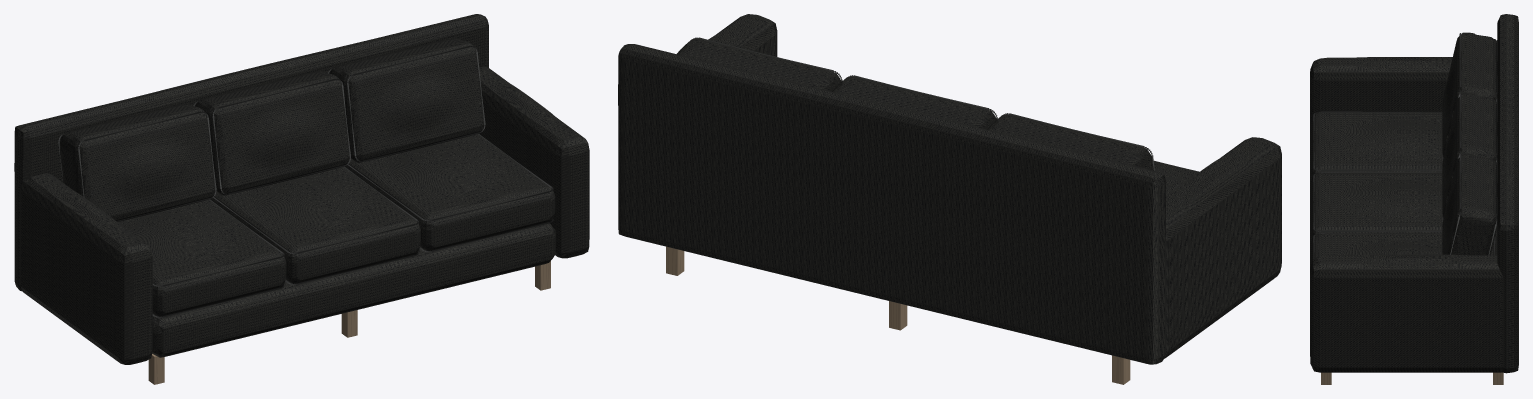
Rendered from sofa.glb.
3 views of the same model, side by side, from view 1: azimuth 30°, elevation 25°; view 2: azimuth 150°, elevation 25°; view 3: azimuth 270°, elevation 25° (orthographic). The views are drawn at different scales.
Parts seen in each view (by area): view 1: arm-pad-l:fabric:eyJ3ZWF2ZSI6InR3aWxsLTIvMSIsIndhcnAiOiJncmV, deck:fabric:eyJ3ZWF2ZSI6InR3aWxsLTIvMSIsIndhcnAiOiJncmV5Iiwi, seat-2:fabric:eyJ3ZWF2ZSI6InR3aWxsLTIvMSIsIndhcnAiOiJncmV5Ii, seat-3:fabric:eyJ3ZWF2ZSI6InR3aWxsLTIvMSIsIndhcnAiOiJncmV5Ii, back-1:fabric:eyJ3ZWF2ZSI6InR3aWxsLTIvMSIsIndhcnAiOiJncmV5Ii, back-3:fabric:eyJ3ZWF2ZSI6InR3aWxsLTIvMSIsIndhcnAiOiJncmV5Ii, back-2:fabric:eyJ3ZWF2ZSI6InR3aWxsLTIvMSIsIndhcnAiOiJncmV5Ii, back-pad:fabric:eyJ3ZWF2ZSI6InR3aWxsLTIvMSIsIndhcnAiOiJncmV5, seat-1:fabric:eyJ3ZWF2ZSI6InR3aWxsLTIvMSIsIndhcnAiOiJncmV5Ii, arm-pad-r:fabric:eyJ3ZWF2ZSI6InR3aWxsLTIvMSIsIndhcnAiOiJncmV, seat-2:piping:pbr, back-3:piping:pbr (+4 smaller); view 2: back-pad:fabric:eyJ3ZWF2ZSI6InR3aWxsLTIvMSIsIndhcnAiOiJncmV5, arm-pad-l:fabric:eyJ3ZWF2ZSI6InR3aWxsLTIvMSIsIndhcnAiOiJncmV, back-1:fabric:eyJ3ZWF2ZSI6InR3aWxsLTIvMSIsIndhcnAiOiJncmV5Ii, back-3:fabric:eyJ3ZWF2ZSI6InR3aWxsLTIvMSIsIndhcnAiOiJncmV5Ii, back-2:fabric:eyJ3ZWF2ZSI6InR3aWxsLTIvMSIsIndhcnAiOiJncmV5Ii, arm-pad-r:fabric:eyJ3ZWF2ZSI6InR3aWxsLTIvMSIsIndhcnAiOiJncmV, seat-1:fabric:eyJ3ZWF2ZSI6InR3aWxsLTIvMSIsIndhcnAiOiJncmV5Ii; view 3: arm-pad-r:fabric:eyJ3ZWF2ZSI6InR3aWxsLTIvMSIsIndhcnAiOiJncmV, seat-1:fabric:eyJ3ZWF2ZSI6InR3aWxsLTIvMSIsIndhcnAiOiJncmV5Ii, seat-2:fabric:eyJ3ZWF2ZSI6InR3aWxsLTIvMSIsIndhcnAiOiJncmV5Ii, arm-pad-l:fabric:eyJ3ZWF2ZSI6InR3aWxsLTIvMSIsIndhcnAiOiJncmV, back-pad:fabric:eyJ3ZWF2ZSI6InR3aWxsLTIvMSIsIndhcnAiOiJncmV5, back-3:fabric:eyJ3ZWF2ZSI6InR3aWxsLTIvMSIsIndhcnAiOiJncmV5Ii, back-1:fabric:eyJ3ZWF2ZSI6InR3aWxsLTIvMSIsIndhcnAiOiJncmV5Ii, back-2:fabric:eyJ3ZWF2ZSI6InR3aWxsLTIvMSIsIndhcnAiOiJncmV5Ii, seat-3:fabric:eyJ3ZWF2ZSI6InR3aWxsLTIvMSIsIndhcnAiOiJncmV5Ii, seat-1:piping:pbr, seat-2:piping:pbr, back-3:piping:pbr (+1 smaller).
Boxes of the visible parts, x1,y1,x2,y2 form: arm-pad-l:fabric:eyJ3ZWF2ZSI6InR3aWxsLTIvMSIsIndhcnAiOiJncmV: (20,173,152,364); deck:fabric:eyJ3ZWF2ZSI6InR3aWxsLTIvMSIsIndhcnAiOiJncmV5Iiwi: (152,223,555,357); seat-2:fabric:eyJ3ZWF2ZSI6InR3aWxsLTIvMSIsIndhcnAiOiJncmV5Ii: (210,167,420,283); seat-3:fabric:eyJ3ZWF2ZSI6InR3aWxsLTIvMSIsIndhcnAiOiJncmV5Ii: (345,134,555,251); back-1:fabric:eyJ3ZWF2ZSI6InR3aWxsLTIvMSIsIndhcnAiOiJncmV5Ii: (59,104,215,221); back-3:fabric:eyJ3ZWF2ZSI6InR3aWxsLTIvMSIsIndhcnAiOiJncmV5Ii: (329,38,483,162); back-2:fabric:eyJ3ZWF2ZSI6InR3aWxsLTIvMSIsIndhcnAiOiJncmV5Ii: (195,71,349,195); back-pad:fabric:eyJ3ZWF2ZSI6InR3aWxsLTIvMSIsIndhcnAiOiJncmV5: (14,14,488,291); seat-1:fabric:eyJ3ZWF2ZSI6InR3aWxsLTIvMSIsIndhcnAiOiJncmV5Ii: (117,199,286,316); arm-pad-r:fabric:eyJ3ZWF2ZSI6InR3aWxsLTIvMSIsIndhcnAiOiJncmV: (479,66,589,258); seat-2:piping:pbr: (213,166,418,284); back-3:piping:pbr: (328,45,485,161); back-pad:fabric:eyJ3ZWF2ZSI6InR3aWxsLTIvMSIsIndhcnAiOiJncmV5: (618,44,1165,364); arm-pad-l:fabric:eyJ3ZWF2ZSI6InR3aWxsLTIvMSIsIndhcnAiOiJncmV: (1164,137,1281,358); back-1:fabric:eyJ3ZWF2ZSI6InR3aWxsLTIvMSIsIndhcnAiOiJncmV5Ii: (987,114,1153,170); back-3:fabric:eyJ3ZWF2ZSI6InR3aWxsLTIvMSIsIndhcnAiOiJncmV5Ii: (677,38,841,91); back-2:fabric:eyJ3ZWF2ZSI6InR3aWxsLTIvMSIsIndhcnAiOiJncmV5Ii: (832,76,996,129); arm-pad-r:fabric:eyJ3ZWF2ZSI6InR3aWxsLTIvMSIsIndhcnAiOiJncmV: (708,14,777,56); seat-1:fabric:eyJ3ZWF2ZSI6InR3aWxsLTIvMSIsIndhcnAiOiJncmV5Ii: (1153,161,1198,196); arm-pad-r:fabric:eyJ3ZWF2ZSI6InR3aWxsLTIvMSIsIndhcnAiOiJncmV: (1310,254,1503,372); seat-1:fabric:eyJ3ZWF2ZSI6InR3aWxsLTIvMSIsIndhcnAiOiJncmV5Ii: (1311,112,1442,182); seat-2:fabric:eyJ3ZWF2ZSI6InR3aWxsLTIvMSIsIndhcnAiOiJncmV5Ii: (1311,173,1497,243); arm-pad-l:fabric:eyJ3ZWF2ZSI6InR3aWxsLTIvMSIsIndhcnAiOiJncmV: (1310,57,1452,158); back-pad:fabric:eyJ3ZWF2ZSI6InR3aWxsLTIvMSIsIndhcnAiOiJncmV5: (1497,14,1518,373); back-3:fabric:eyJ3ZWF2ZSI6InR3aWxsLTIvMSIsIndhcnAiOiJncmV5Ii: (1442,154,1497,255); back-1:fabric:eyJ3ZWF2ZSI6InR3aWxsLTIvMSIsIndhcnAiOiJncmV5Ii: (1442,32,1497,157); back-2:fabric:eyJ3ZWF2ZSI6InR3aWxsLTIvMSIsIndhcnAiOiJncmV5Ii: (1442,93,1497,217); seat-3:fabric:eyJ3ZWF2ZSI6InR3aWxsLTIvMSIsIndhcnAiOiJncmV5Ii: (1311,233,1497,263); seat-1:piping:pbr: (1313,111,1442,171); seat-2:piping:pbr: (1313,172,1442,232); back-3:piping:pbr: (1450,154,1497,254).
Size of the model in its own units: 2.1 by 0.8243 by 0.8712.
Materials: 90 (46 with a texture image).
